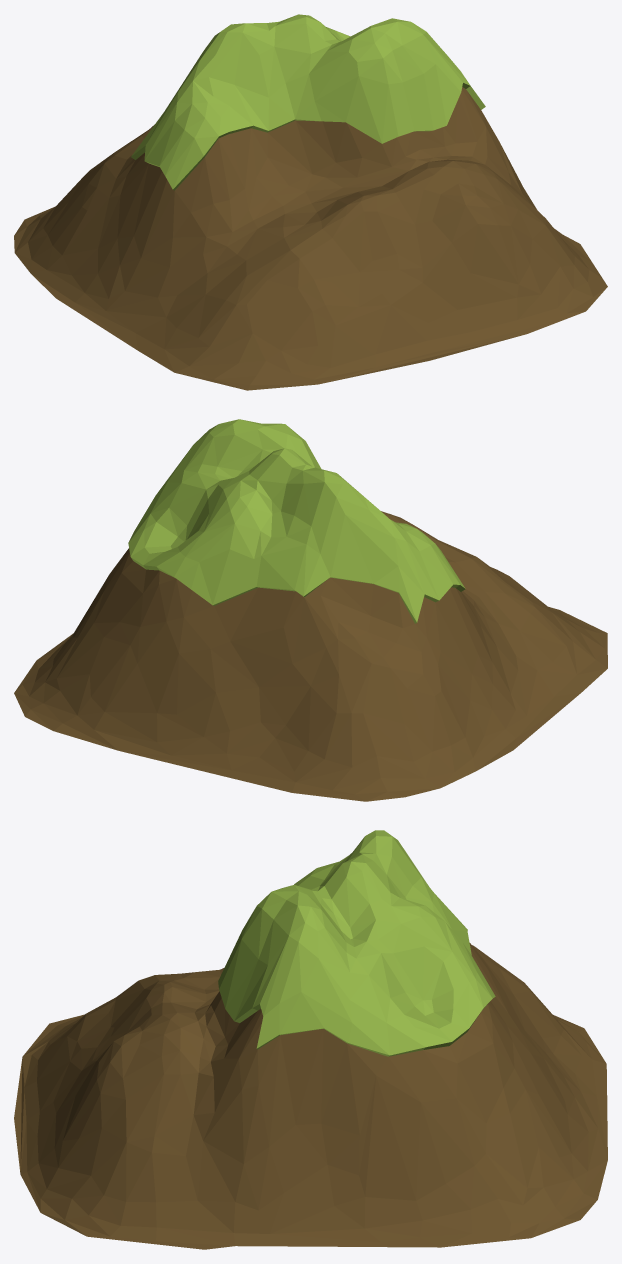
File: mountain3.fbx
3 views of the same model, one above another, from view 1: azimuth 30°, elevation 25°; view 2: azimuth 150°, elevation 25°; view 3: azimuth 270°, elevation 25° (orthographic). The views are drawn at different scales.
Visible parts, largest first — view 1: mountain3_LOD0; view 2: mountain3_LOD0; view 3: mountain3_LOD0.
Part boxes in pixels (left/top/right/bottom): mountain3_LOD0: left=14, top=14, right=607, bottom=390; mountain3_LOD0: left=14, top=419, right=607, bottom=801; mountain3_LOD0: left=14, top=830, right=607, bottom=1249.
Size of what is drawn, in the model's own units: 200 by 98.79 by 198.
